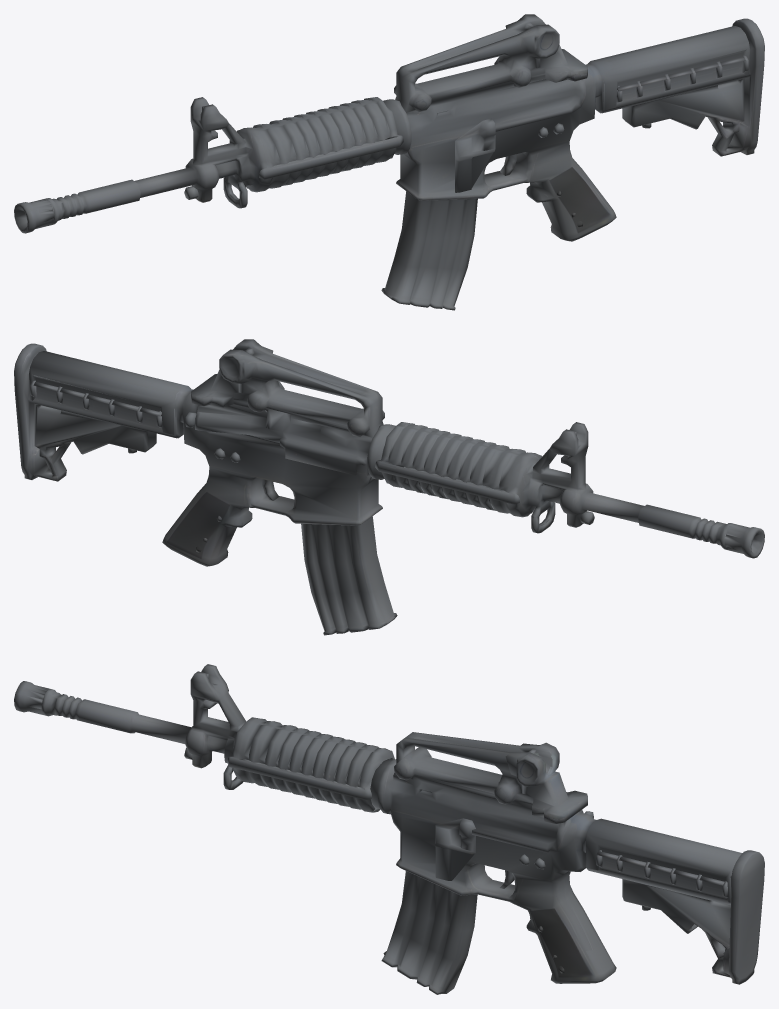
3 renders of one model, top to bottom at view 1: azimuth 30°, elevation 25°; view 2: azimuth 150°, elevation 25°; view 3: azimuth 330°, elevation 25°, orthographic.
Visible parts, largest first — view 1: material; view 2: material; view 3: material.
Boxes of the visible parts, x1=… form: material: x1=14, y1=14, x2=764, y2=310; material: x1=14, y1=339, x2=764, y2=635; material: x1=14, y1=664, x2=764, y2=994.
Bounding box in the file's own units: 190 × 64.9 × 16.62.
1 material, 1 textured.
